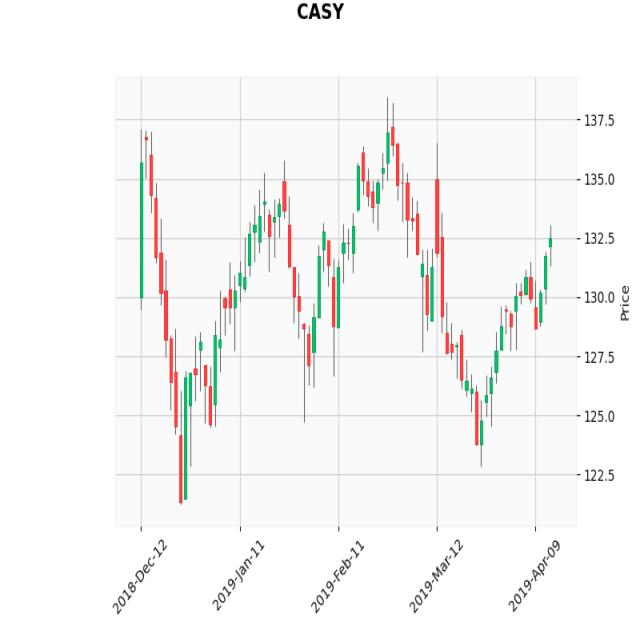Double-Top: (341, 115, 420, 247)
